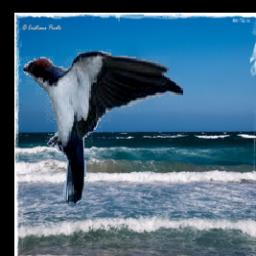Swallow: (22, 49, 184, 203)
